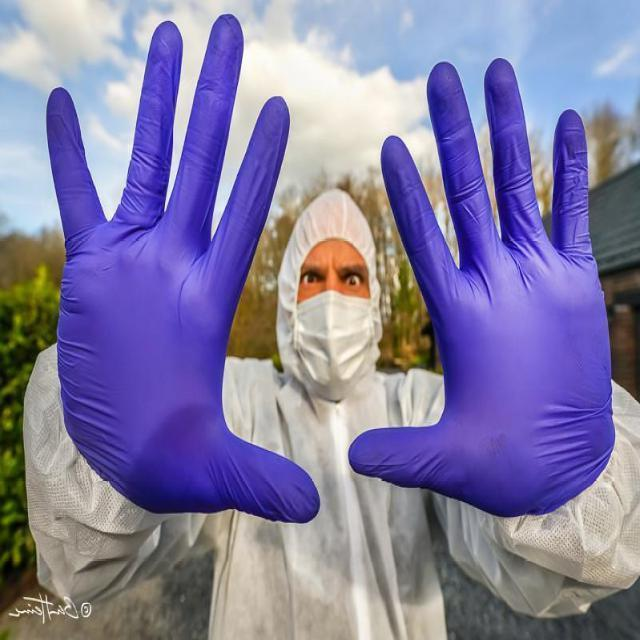gloves: (40, 11, 323, 528), (344, 39, 620, 526)
